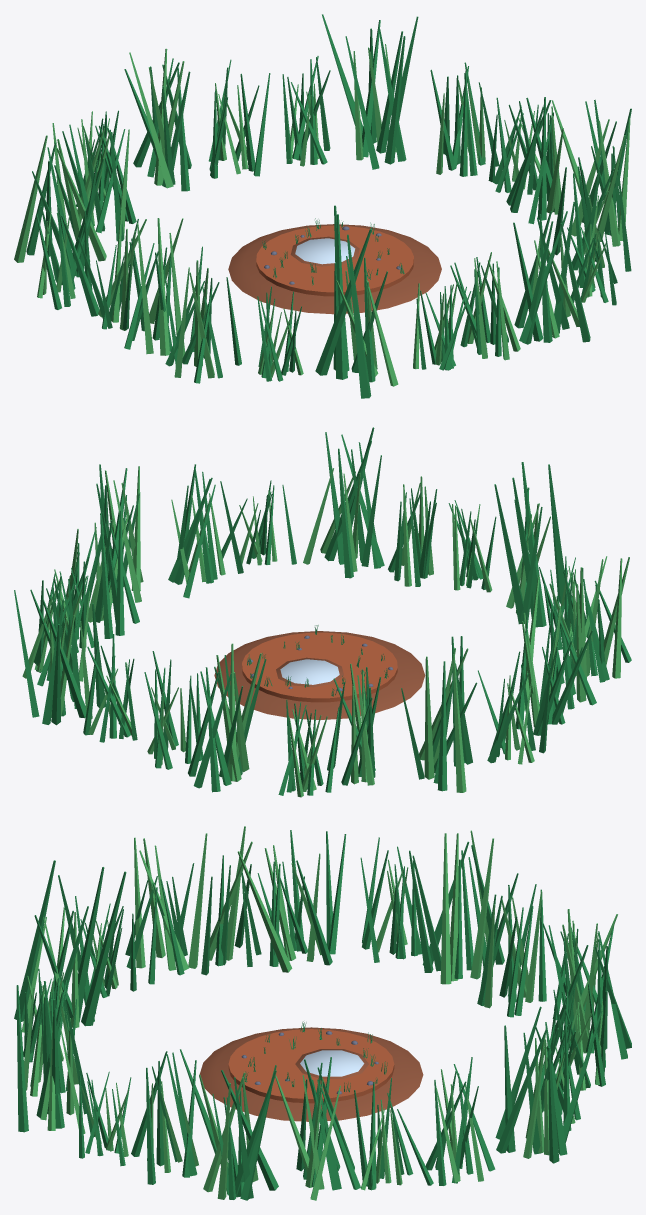
File: clot_toad.glb
The picture shows the model from 3 angles, top to bottom: view 1: azimuth 30°, elevation 25°; view 2: azimuth 150°, elevation 25°; view 3: azimuth 270°, elevation 25°; orthographic projection. The views are drawn at different scales.
Visible parts, largest first — view 1: ClotToadGround; view 2: ClotToadGround; view 3: ClotToadGround.
Part boxes in pixels (x1,y1,x2,y2): ClotToadGround: (14,14,631,398); ClotToadGround: (14,427,631,797); ClotToadGround: (14,826,631,1200).
Bounding box in the file's own units: 46.13 × 12.74 × 44.72.
Materials: 1 (1 with a texture image).
